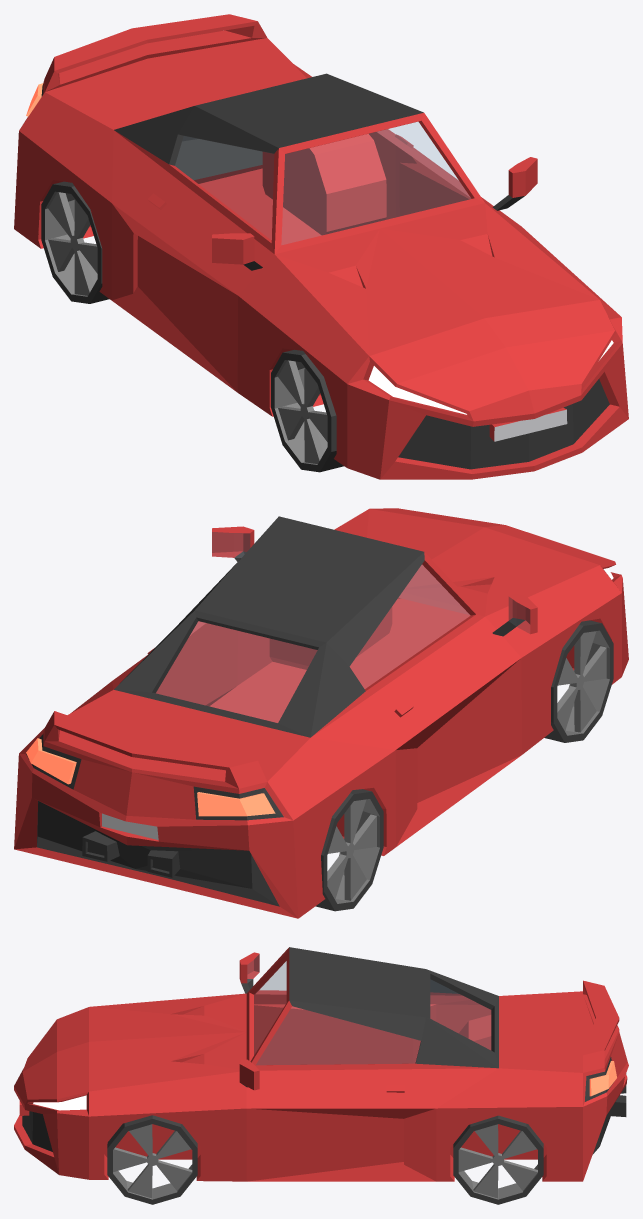
Rendered from sports.glb.
3 renders of one model, top to bottom at view 1: azimuth 30°, elevation 25°; view 2: azimuth 150°, elevation 25°; view 3: azimuth 270°, elevation 25°, orthographic. The views are drawn at different scales.
Visible parts, largest first — view 1: Sports, Sports wheel front right, Sports wheel rear right; view 2: Sports, Sports wheel front right, Sports wheel rear right; view 3: Sports, Sports wheel front left, Sports wheel rear left.
Boxes of the visible parts, x1=… form: Sports: x1=14, y1=14, x2=628, y2=479; Sports wheel front right: x1=271, y1=349, x2=343, y2=472; Sports wheel rear right: x1=41, y1=181, x2=109, y2=303; Sports: x1=14, y1=508, x2=628, y2=918; Sports wheel front right: x1=544, y1=620, x2=613, y2=742; Sports wheel rear right: x1=315, y1=789, x2=383, y2=911; Sports: x1=14, y1=947, x2=628, y2=1181; Sports wheel front left: x1=107, y1=1115, x2=197, y2=1204; Sports wheel rear left: x1=453, y1=1115, x2=543, y2=1204.
Size of the model in its own units: 2.63 by 1.84 by 5.73.
